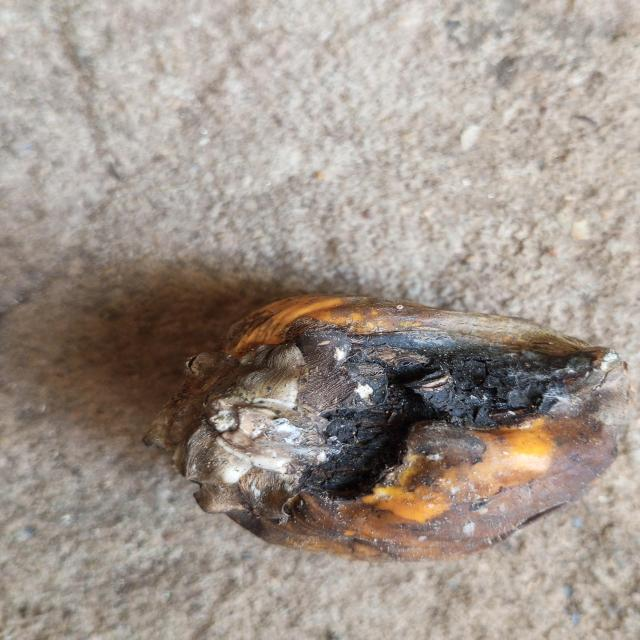damaged: (165, 298, 617, 565)
